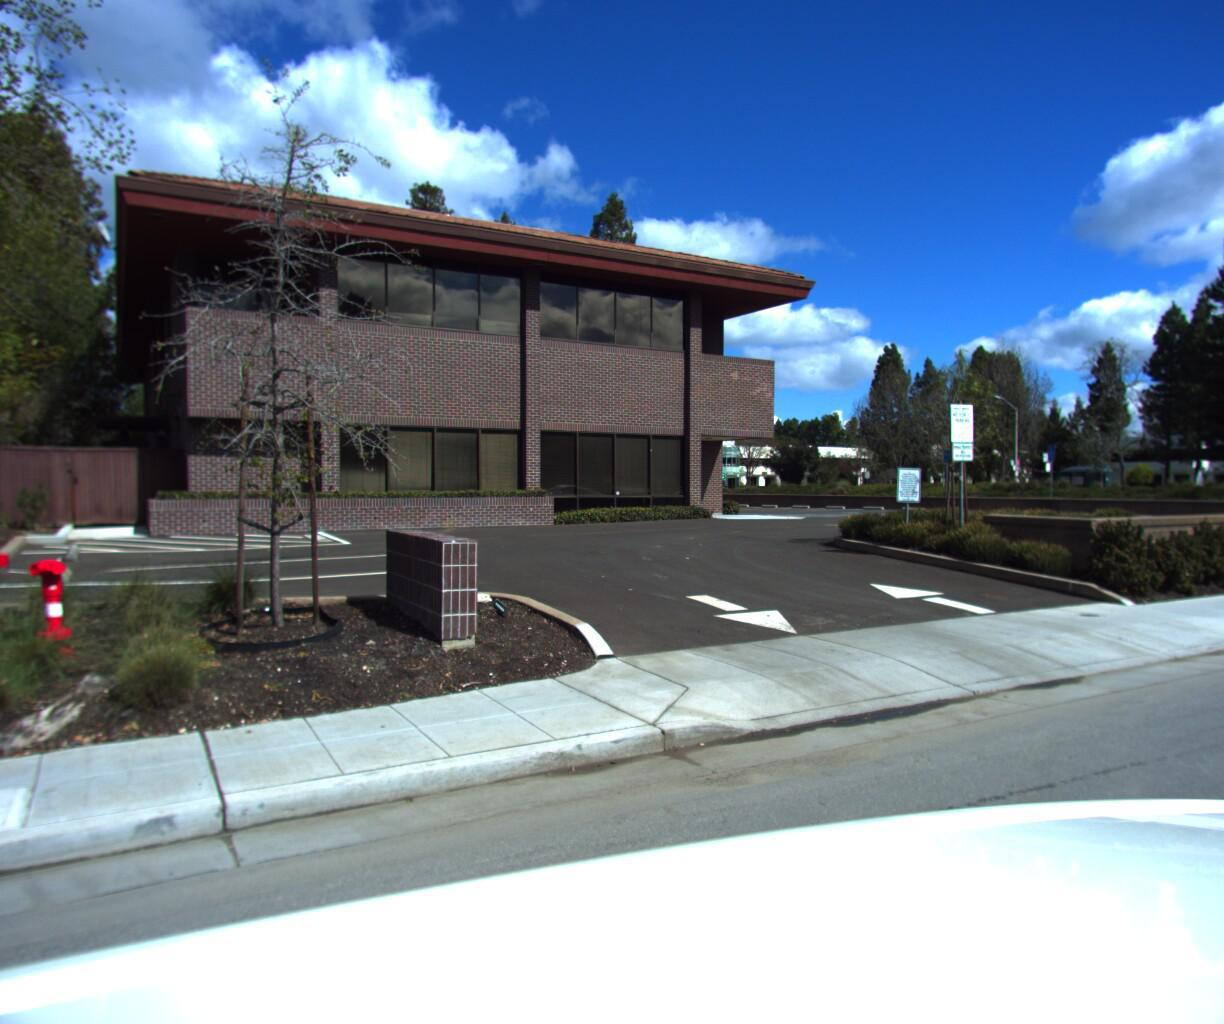car: (1211, 470, 1224, 508)
